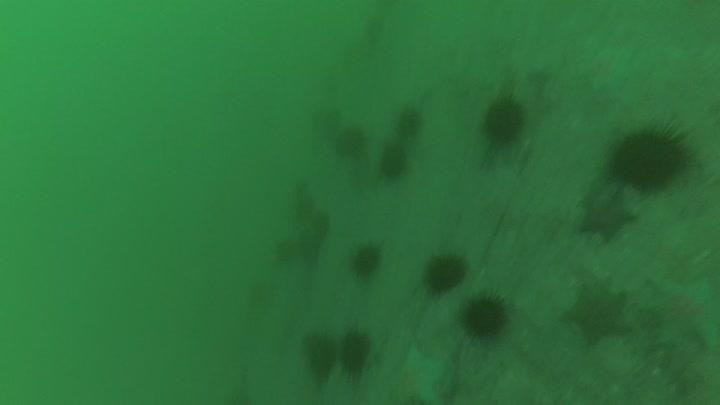echinus: (605, 121, 692, 193), (459, 291, 511, 341), (479, 94, 527, 148), (421, 250, 470, 296), (300, 329, 340, 383), (337, 327, 374, 378), (347, 240, 385, 282), (331, 124, 369, 161), (376, 142, 411, 182), (393, 104, 426, 141), (271, 235, 303, 267)
starfish: (639, 271, 719, 352), (560, 281, 634, 347), (379, 342, 451, 405), (575, 185, 640, 245), (578, 42, 639, 98)
